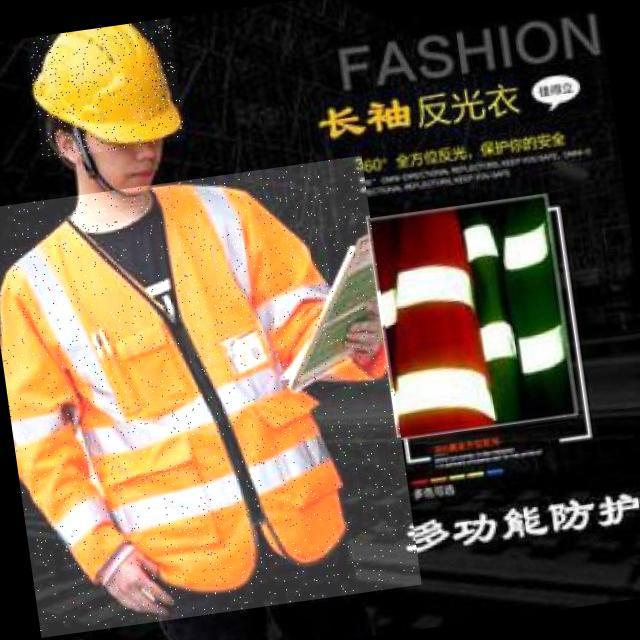Helmet: (26, 18, 187, 160)
Safety Vest: (0, 156, 422, 639)
